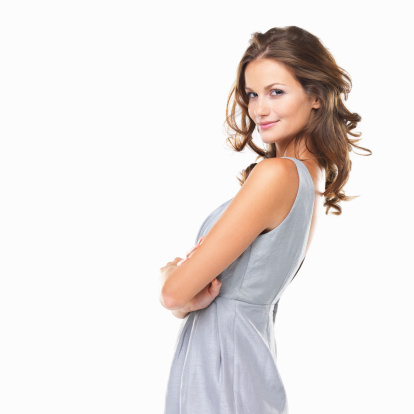em pe: (115, 28, 376, 414)
